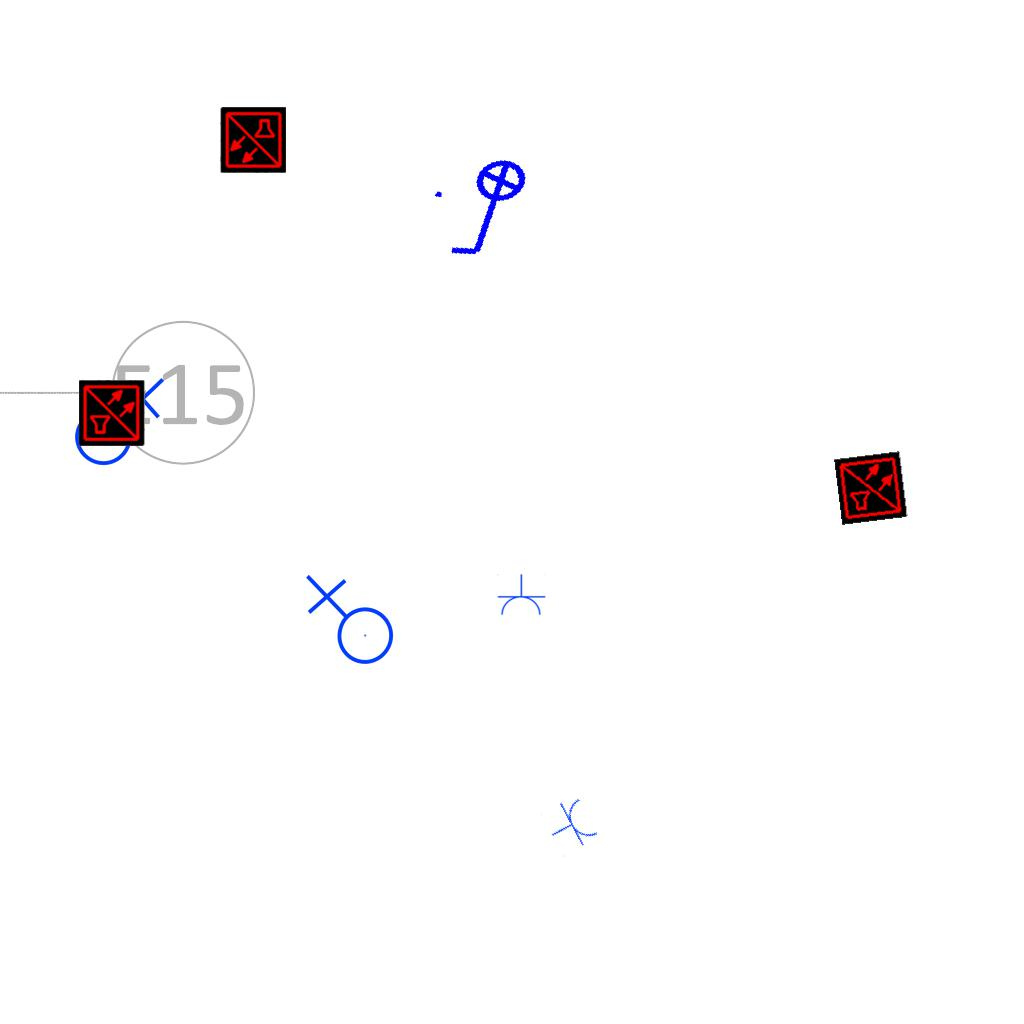Ausschalter_beleuchtet: (424, 150, 556, 270)
Elektroanschluss_allgemein_230V_Geraeteanschlussdose_230V: (66, 373, 165, 467), (301, 574, 395, 673)
OKW_Multisensormelder_(Kombination_optischer_Rauch-Kahlenmonoxid_Waerme-Melder): (834, 451, 908, 525), (220, 107, 286, 173), (79, 380, 145, 446)
Schukosteckdose_einfach: (540, 793, 602, 858), (496, 574, 546, 617)
